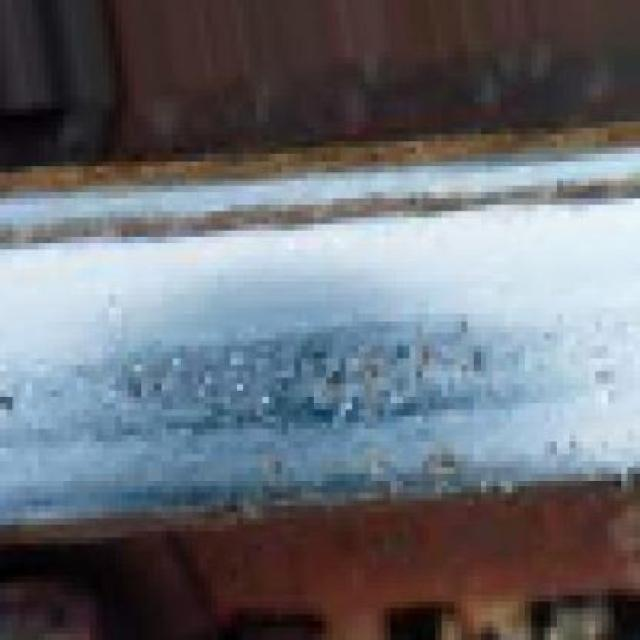defective: (4, 134, 640, 640)
